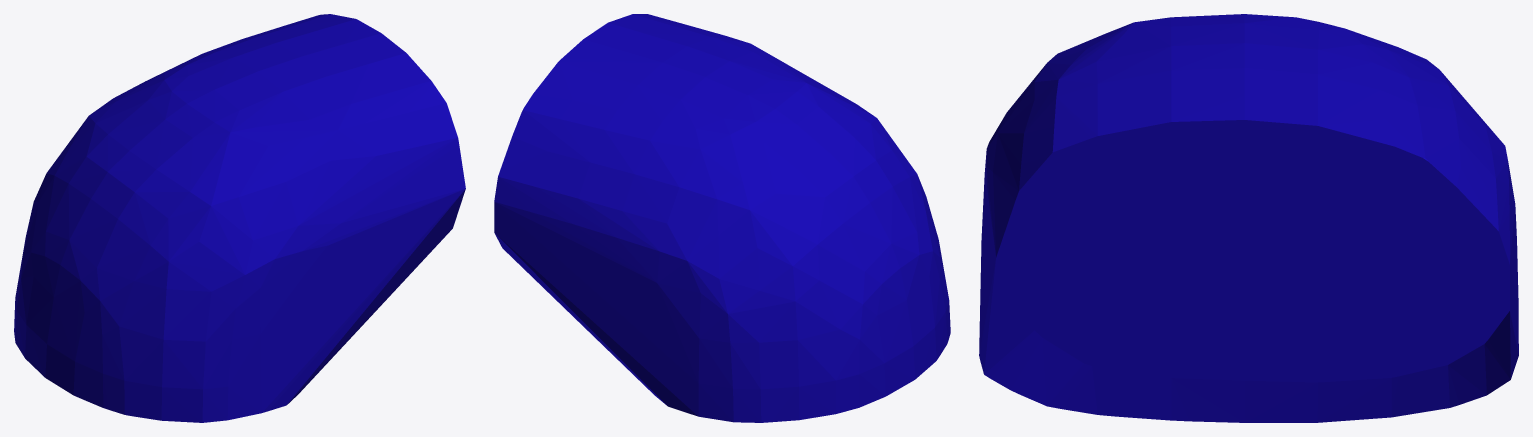
3 views of the same model, side by side, from view 1: azimuth 30°, elevation 25°; view 2: azimuth 150°, elevation 25°; view 3: azimuth 270°, elevation 25° (orthographic). The views are drawn at different scales.
Size of the model in its own units: 0.0233 by 0.0174 by 0.022.
